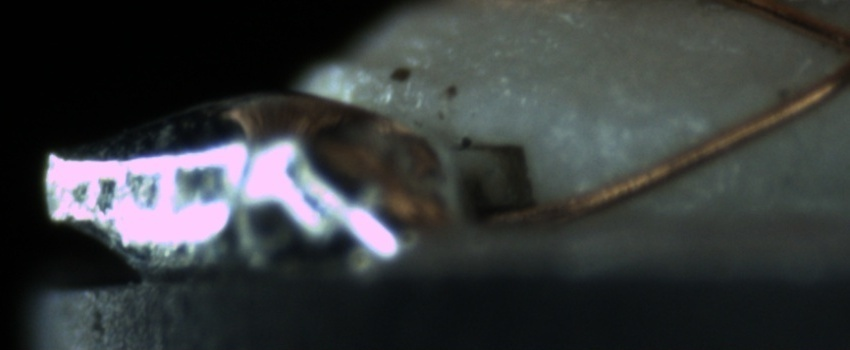DL: (567, 97, 721, 158)
